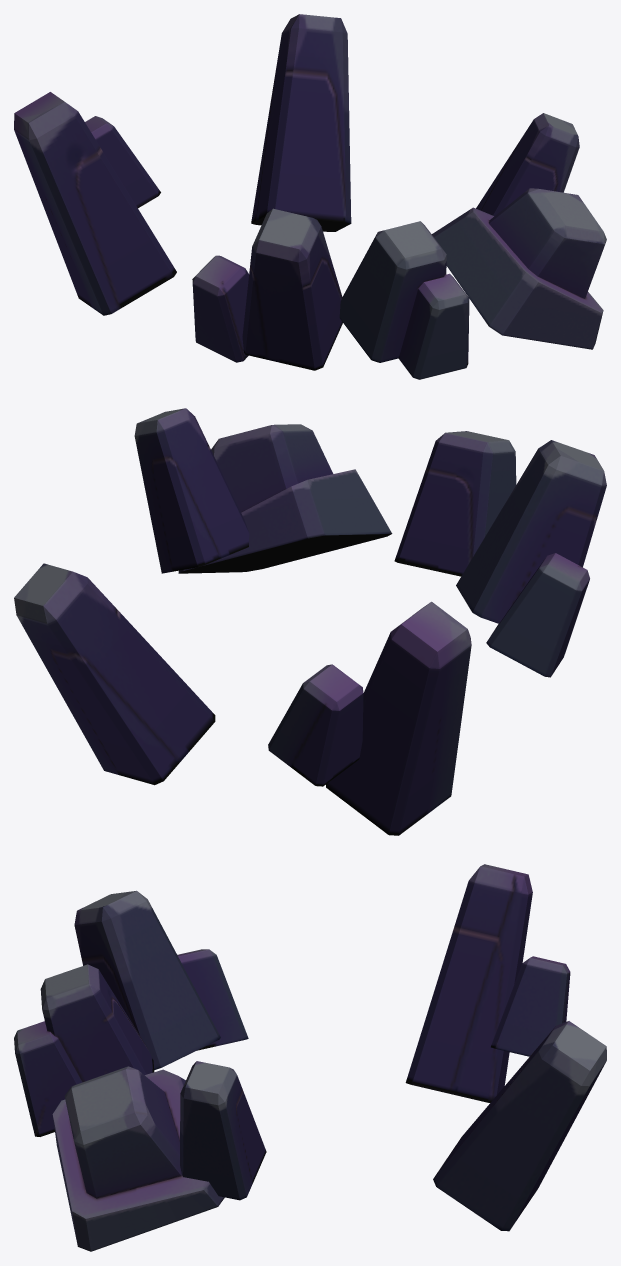
The model's file is Ore_Squished_B.fbx.
3 renders of one model, top to bottom at view 1: azimuth 30°, elevation 25°; view 2: azimuth 150°, elevation 25°; view 3: azimuth 270°, elevation 25°, orthographic. The views are drawn at different scales.
Visible parts, largest first — view 1: Ore_Squished_B; view 2: Ore_Squished_B; view 3: Ore_Squished_B.
Boxes of the visible parts, left/top/right/bottom form: Ore_Squished_B: left=14, top=14, right=606, bottom=379; Ore_Squished_B: left=14, top=408, right=606, bottom=835; Ore_Squished_B: left=14, top=864, right=606, bottom=1251.
Bounding box in the file's own units: 0.8057 × 0.3798 × 0.9231.
